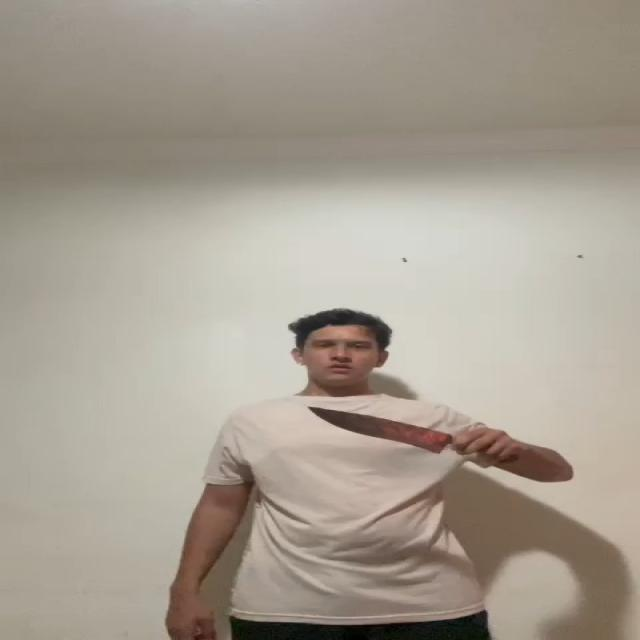knife: (313, 404, 447, 451)
